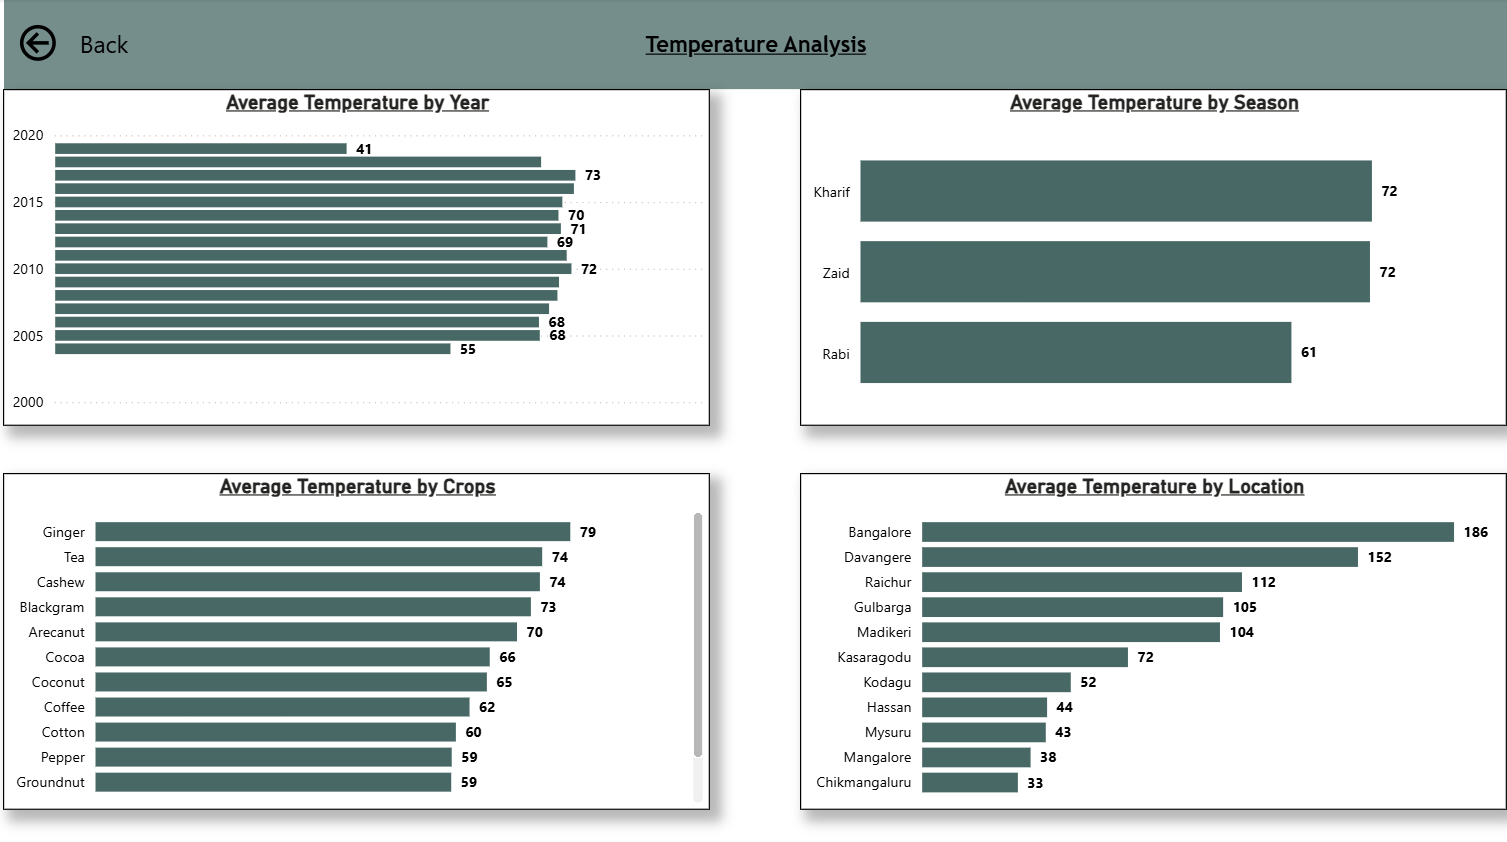

What the dashboard file says about the page in this screenshot:
{"tool":"powerbi","page":{"name":"Temperature Analysis","canvas":[1280,720],"ordinal":1},"visuals":[{"type":"shape","box":[12.3,0,1267.7,76],"z":0},{"type":"barChart","title":"Average Temperature by Year","fields":{"Category":["AGRICULTURE.YEAR"],"Y":["Avg(AGRICULTURE.TEMPERATURE)"]},"box":[12,76,596,284],"z":1000},{"type":"barChart","title":"Average Temperature by Season","fields":{"Y":["Avg(AGRICULTURE.TEMPERATURE)"],"Category":["AGRICULTURE.SEASON"]},"box":[684,76,596,284],"z":2000},{"type":"barChart","title":"Average Temperature by Location","fields":{"Y":["Avg(AGRICULTURE.TEMPERATURE)"],"Category":["AGRICULTURE.LOCATION"]},"box":[684,400,596,284],"z":3000},{"type":"barChart","title":"Average Temperature by Crops","fields":{"Category":["AGRICULTURE.CROPS"],"Y":["Avg(AGRICULTURE.TEMPERATURE)"]},"box":[12,400,596,284],"z":4000}]}

Visuals, with their boxes on the page's 1280x720 design canvas (x1, y1, x2, y2). These are canvas units, not pixel positions in the 1507x842 screenshot, which may show the page scaled, cropped or inside an application window:
shape: BBox(12, 0, 1280, 76)
"Average Temperature by Year" barChart: BBox(12, 76, 608, 360)
"Average Temperature by Season" barChart: BBox(684, 76, 1280, 360)
"Average Temperature by Location" barChart: BBox(684, 400, 1280, 684)
"Average Temperature by Crops" barChart: BBox(12, 400, 608, 684)
